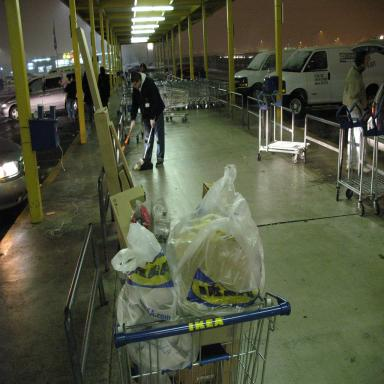plasticbag: (165, 162, 266, 318), (110, 222, 202, 371)
